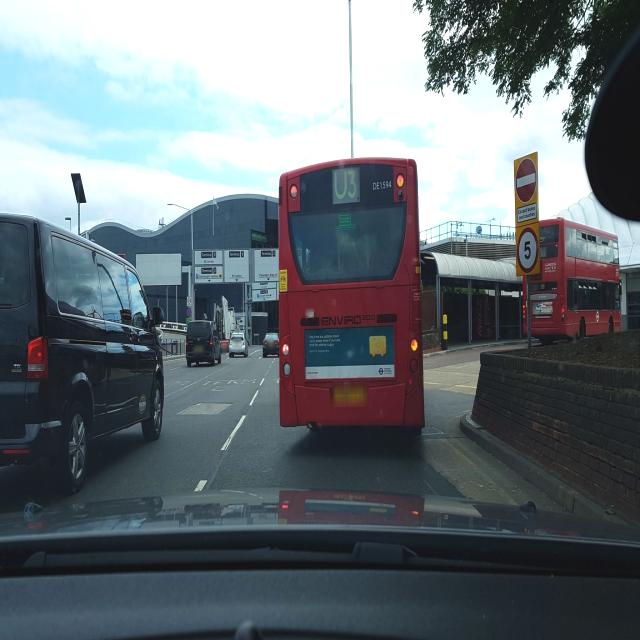car: (0, 214, 165, 496), (186, 318, 222, 368), (228, 330, 250, 358), (262, 331, 279, 358)
